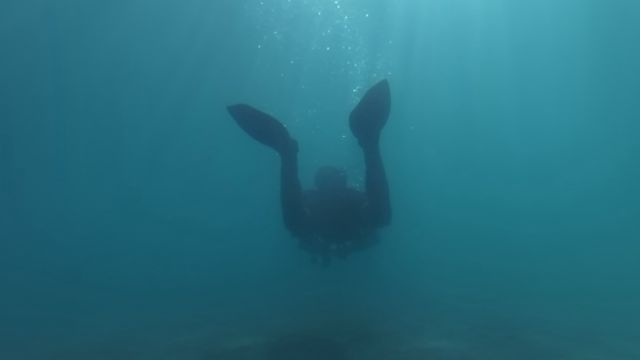Diver: (206, 64, 454, 272)
